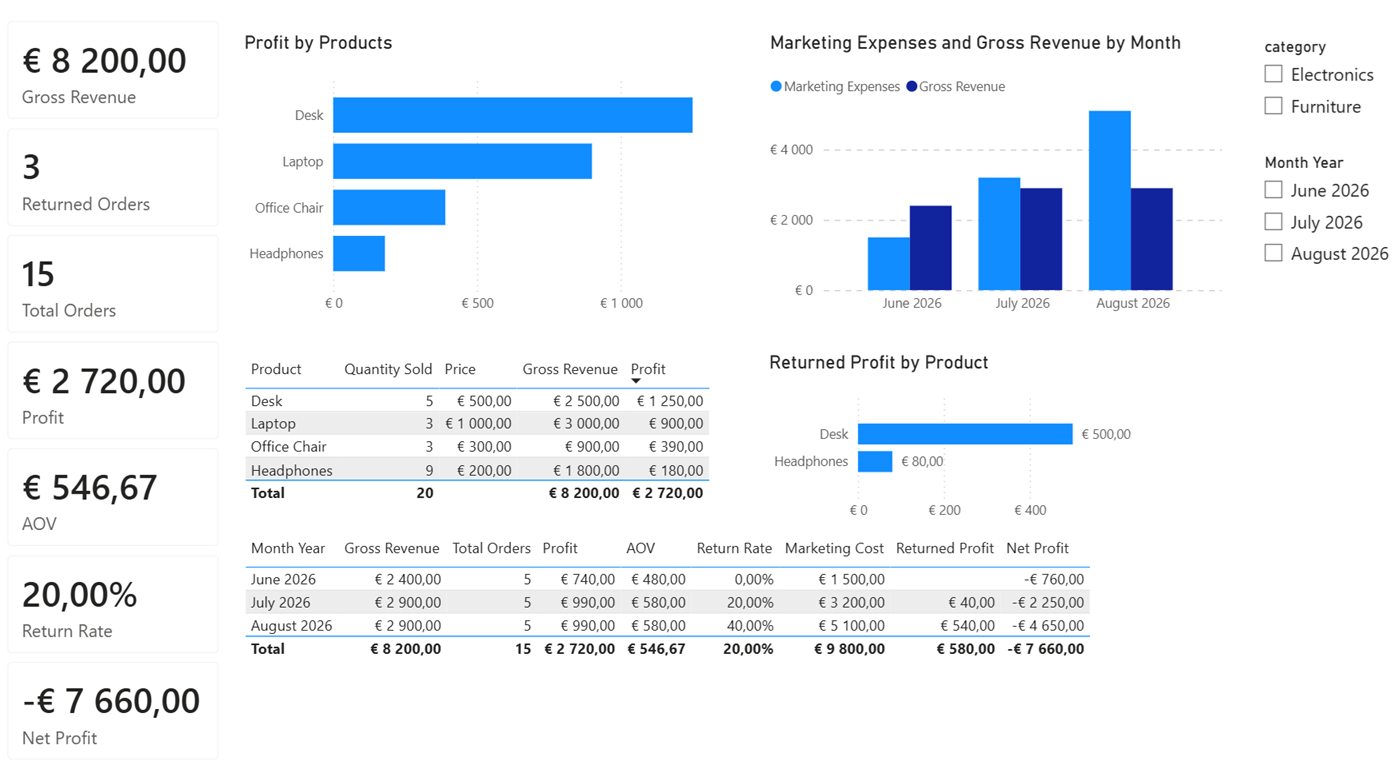

Layout of this report page (visuals, bound fields, positions):
{"tool":"powerbi","page":{"name":"Страница 1","canvas":[1280,720],"ordinal":0},"visuals":[{"type":"cardVisual","fields":{"Data":["orders.Revenue","Sum(returns.returned)","orders.Total Orders","orders.Profit","orders.AOV","orders.Return Rate","orders.Profit After Marketing"]},"box":[0,0,227,707.2],"z":0},{"type":"slicer","fields":{"Values":["products.category"]},"box":[1145.6,26.3,134.4,89],"z":1000},{"type":"tableEx","fields":{"Values":["products.product","Sum(orders.quantity)","products.price","orders.Gross Revenue","orders.Profit"]},"box":[227,316.8,477.5,162.5],"z":2000},{"type":"clusteredBarChart","fields":{"Category":["products.product"],"Y":["orders.Profit"]},"box":[227,26.3,476.6,265.1],"z":3000},{"type":"slicer","fields":{"Values":["Calendar.Month Year"]},"box":[1145.6,131.6,134.4,159.8],"z":4000},{"type":"tableEx","fields":{"Values":["Calendar.Month Year","orders.Revenue","orders.Total Orders","orders.Profit","orders.AOV","orders.Return Rate","Sum(marketing.marketing_cost)","orders.Returned Revenue","orders.Net Profit"]},"box":[227,479.3,796.1,181.6],"z":5000},{"type":"clusteredColumnChart","title":"Marketing Expenses and Gross Revenue by Month","fields":{"Category":["Calendar.Month Year"],"Y":["Sum(marketing.marketing_cost)","orders.Gross Revenue"]},"box":[704.5,26.3,420.3,265.1],"z":6000},{"type":"clusteredBarChart","fields":{"Category":["products.product"],"Y":["orders.Returned Profit"]},"box":[703.5,316.8,354,162.5],"z":7000}]}

Visuals, with their boxes in screenshot pixels (x1, y1, x2, y2), scaled from the page's 1280x720 canvas onto the 1393x765 screenshot:
cardVisual - orders.Revenue x Sum(returns.returned): (x1=0, y1=0, x2=247, y2=751)
slicer - products.category: (x1=1247, y1=28, x2=1392, y2=123)
tableEx - products.product x Sum(orders.quantity): (x1=247, y1=337, x2=767, y2=509)
clusteredBarChart - products.product x orders.Profit: (x1=247, y1=28, x2=766, y2=310)
slicer - Calendar.Month Year: (x1=1247, y1=140, x2=1392, y2=310)
tableEx - Calendar.Month Year x orders.Revenue: (x1=247, y1=509, x2=1113, y2=702)
"Marketing Expenses and Gross Revenue by Month" clusteredColumnChart: (x1=767, y1=28, x2=1224, y2=310)
clusteredBarChart - products.product x orders.Returned Profit: (x1=766, y1=337, x2=1151, y2=509)
